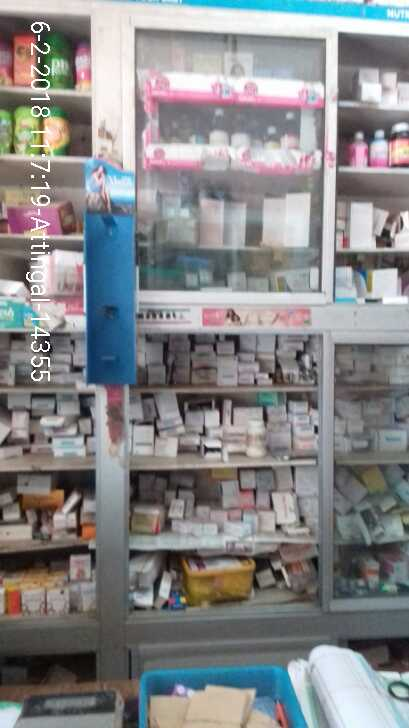reject: (112, 193, 216, 309)
